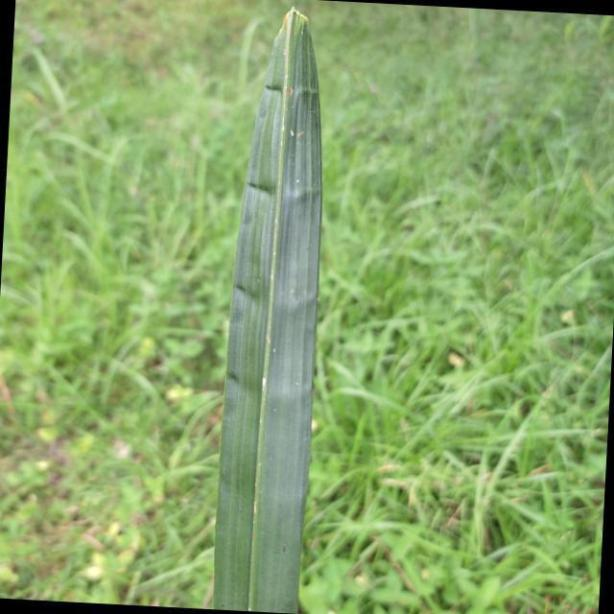Boron: (210, 0, 324, 614)
